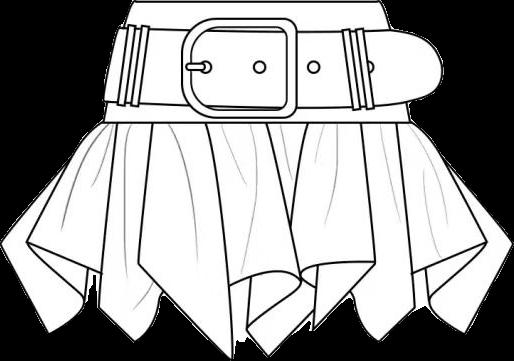Hemline: (0, 239, 513, 360)
Waistline: (101, 119, 410, 126), (131, 0, 380, 5)
